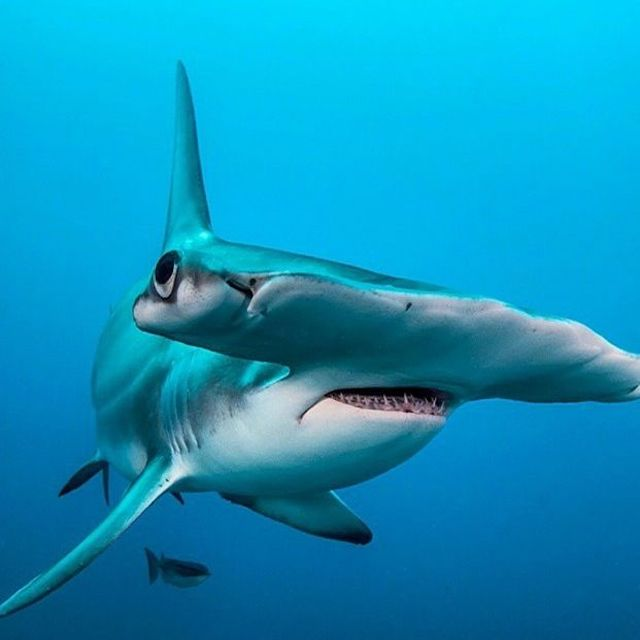hammerhead: (88, 215, 640, 485)
